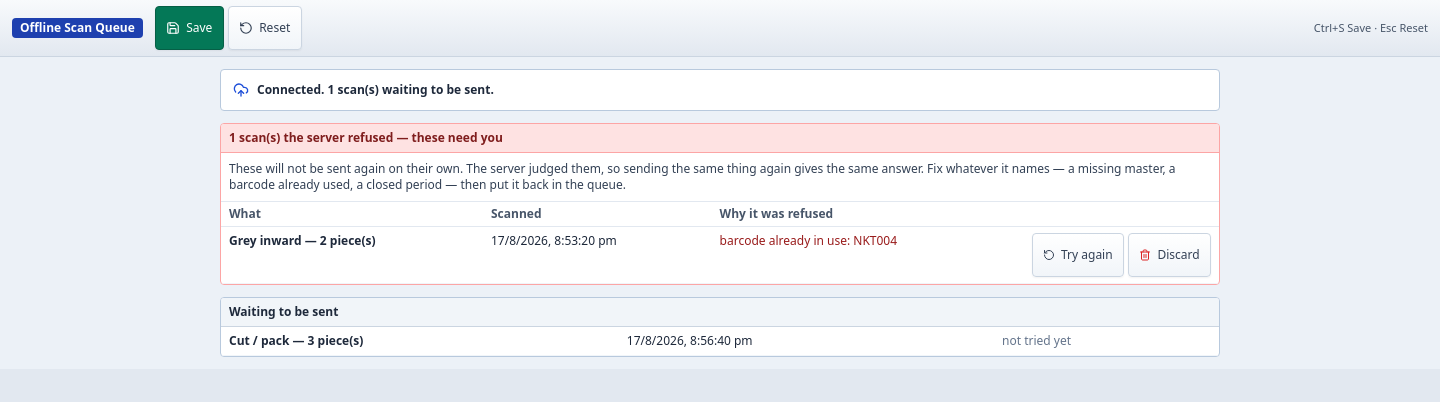
Test: sending › reports what happened to each scan
Click the button "Save" at (189, 28), box [155,6,224,50]
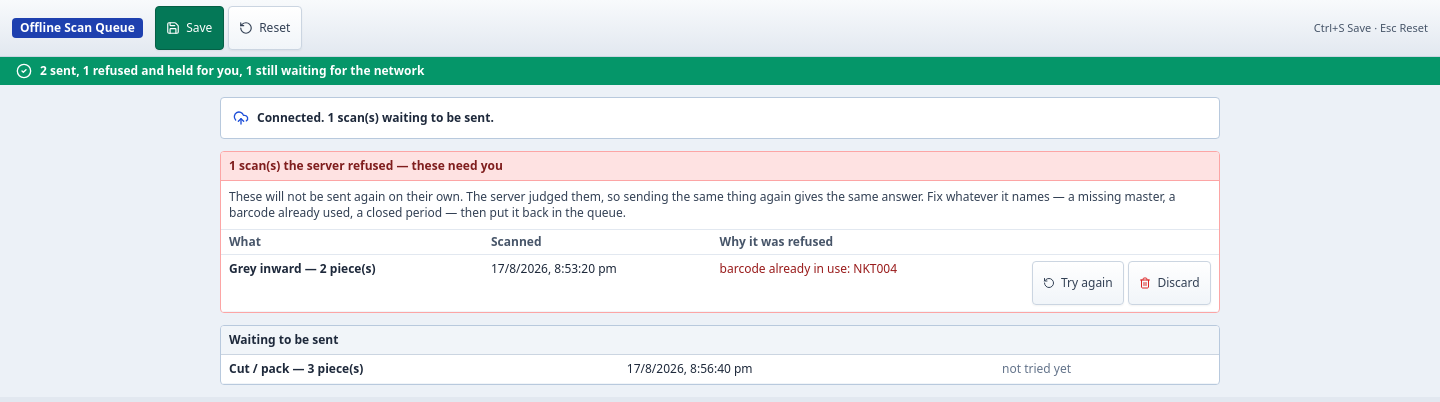
Now the text "2 sent, 1 refused and held for you, 1 still waiting" is shown, box [40,62,424,79]
